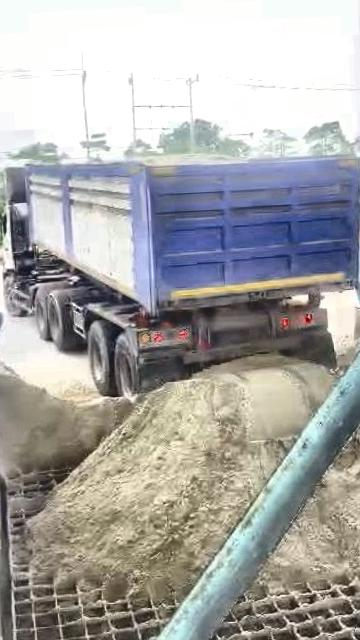sand: (31, 359, 335, 596), (264, 405, 360, 587), (0, 369, 132, 476), (136, 153, 247, 171), (338, 326, 360, 371)
